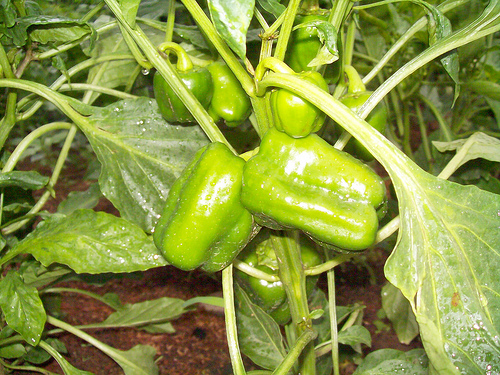capsicum: (239, 126, 388, 252), (153, 140, 263, 277), (252, 50, 330, 139), (155, 40, 213, 124), (209, 49, 251, 130)
